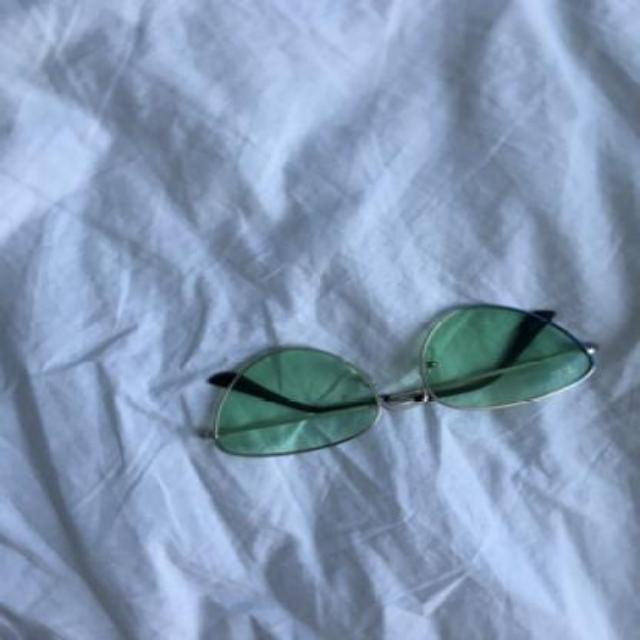glasses: (198, 301, 600, 459)
